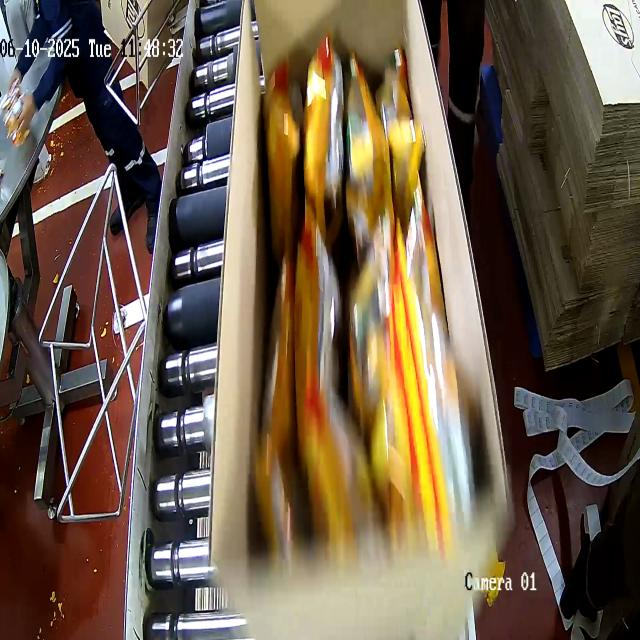FRENCH_CHEESE: (251, 34, 432, 551)
